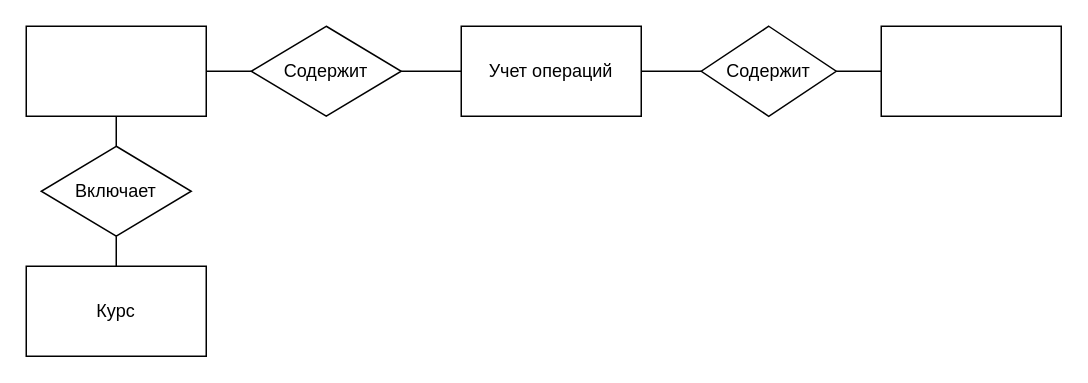
The diagram is 1088 pixels wide and 383 high, and some of its shapes have lost their labels. Here are the shapes that lost their labels. From the top down, the centre of each, then its label:
(115,70): Валюта
(970,70): Тип операции
